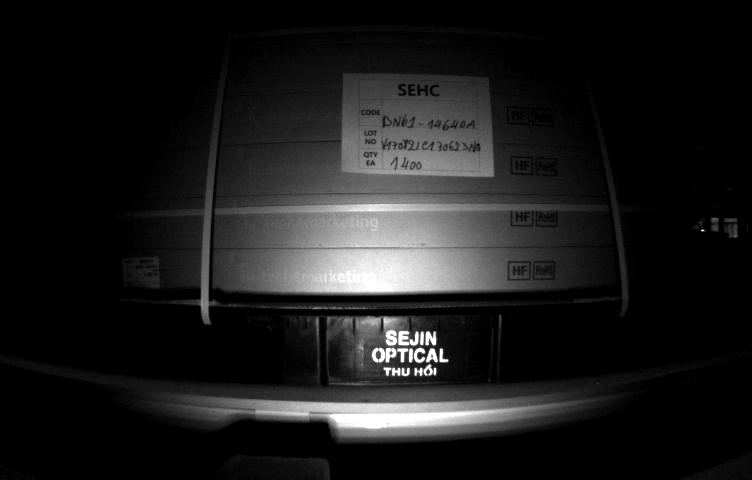True Barcode: (117, 256, 160, 287)
